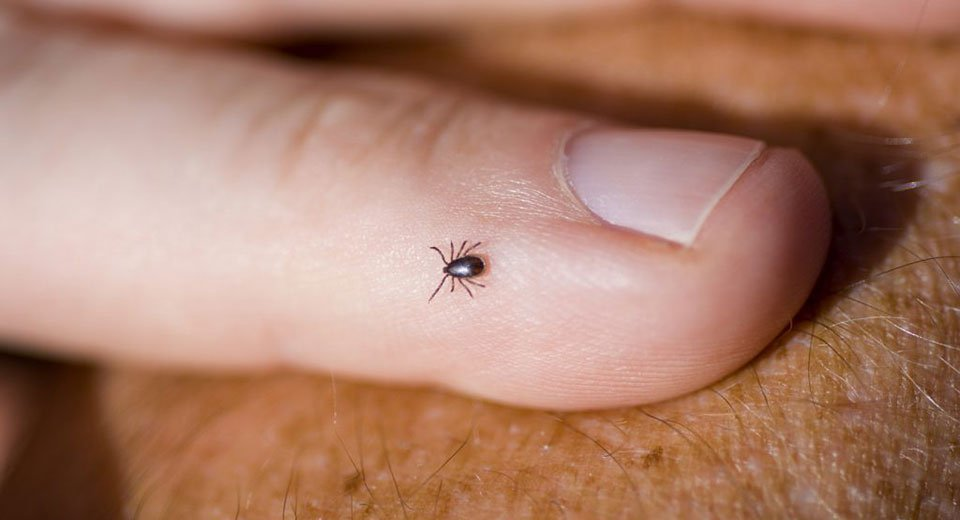unlabelled_tick: (424, 237, 492, 306)
